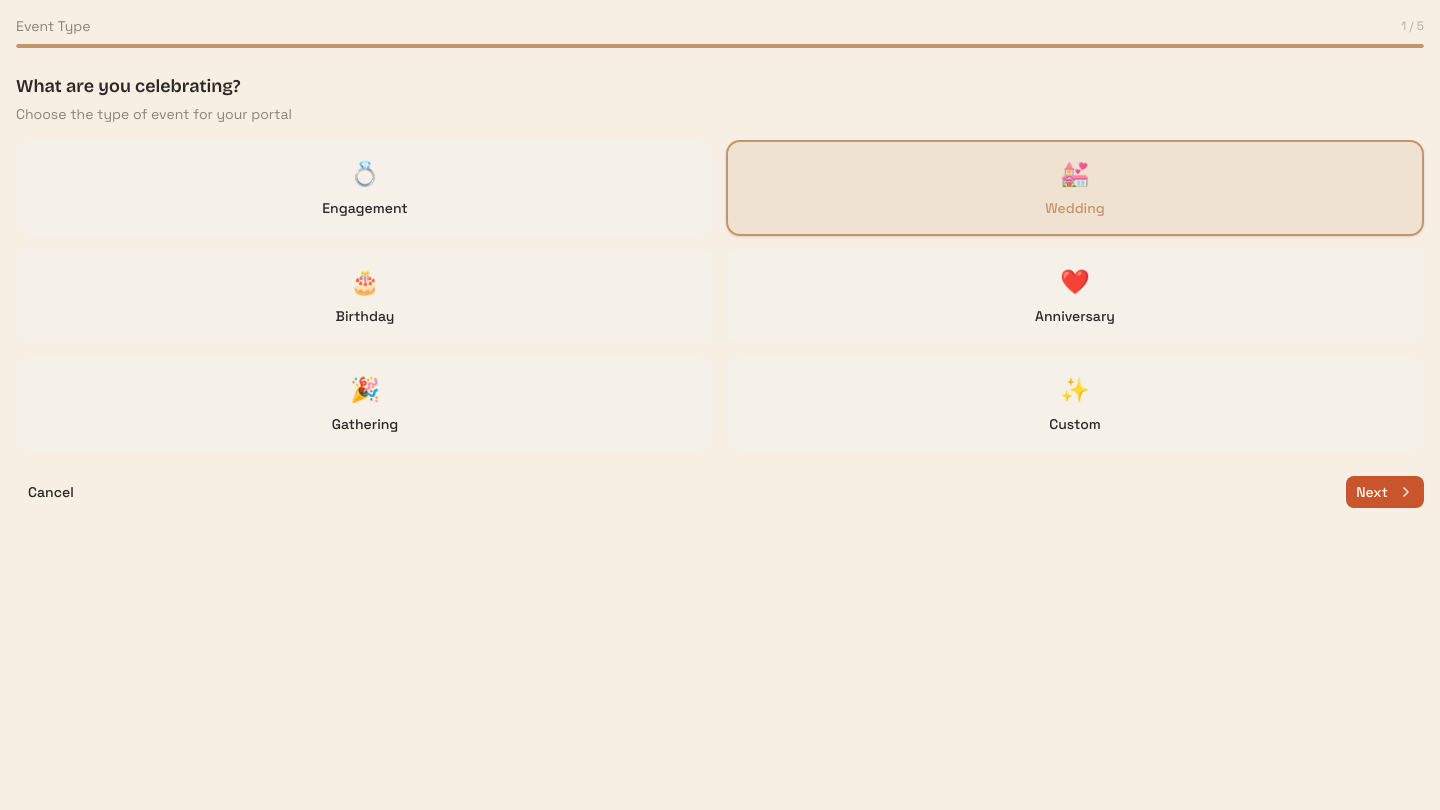
Scenario: PortalCreationWizard › navigates to step 5 (Review) from step 4
// Navigate through all steps
Click the button "Next" at (1385, 492), box x1=1346 y1=476 x2=1424 y2=508
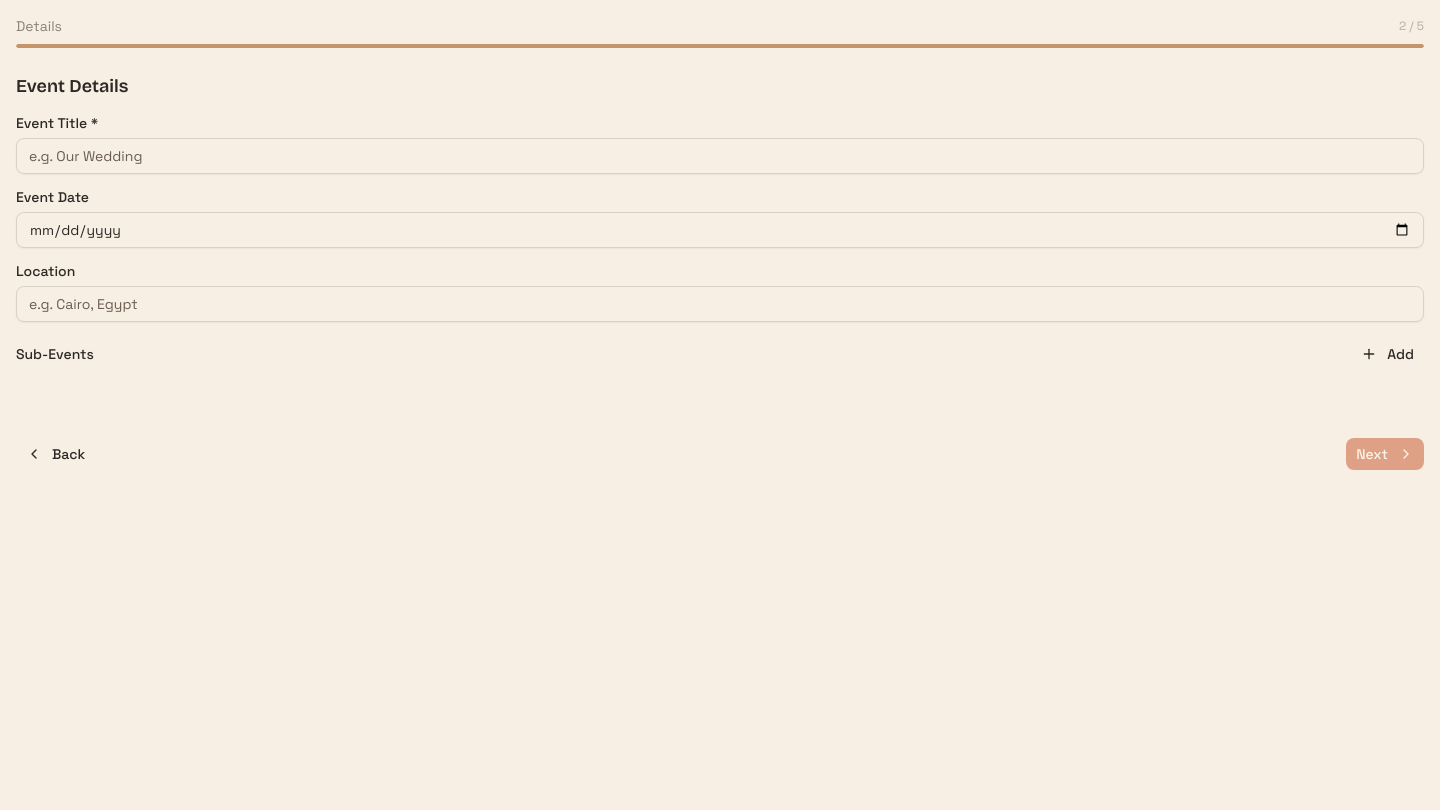
Type "My Wedding" into the field with test id "portal-title-input" at (720, 156), box x1=16 y1=138 x2=1424 y2=174
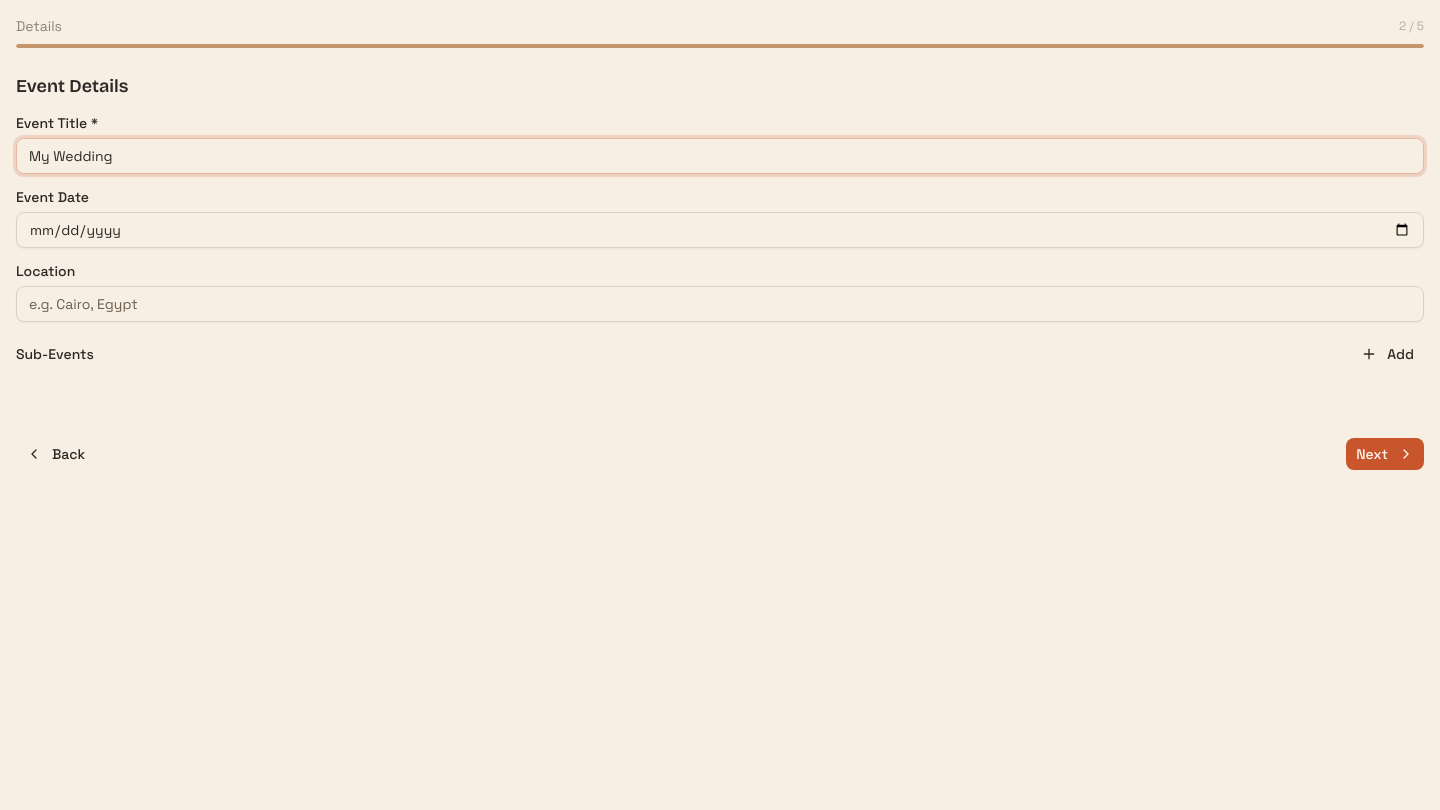
Click the button "Next" at (1385, 454), box x1=1346 y1=438 x2=1424 y2=470
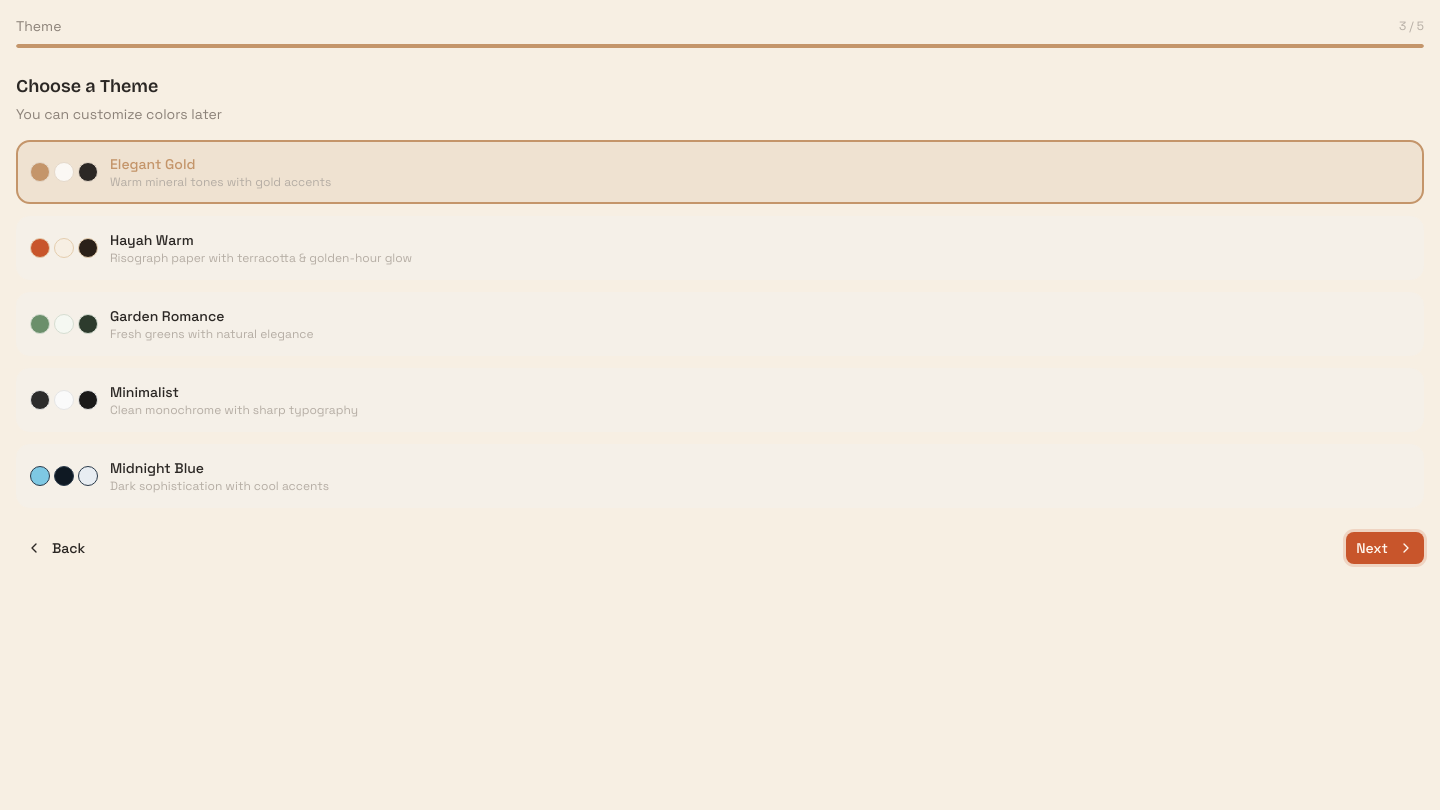
Click the button "Next" at (1385, 548), box x1=1346 y1=532 x2=1424 y2=564
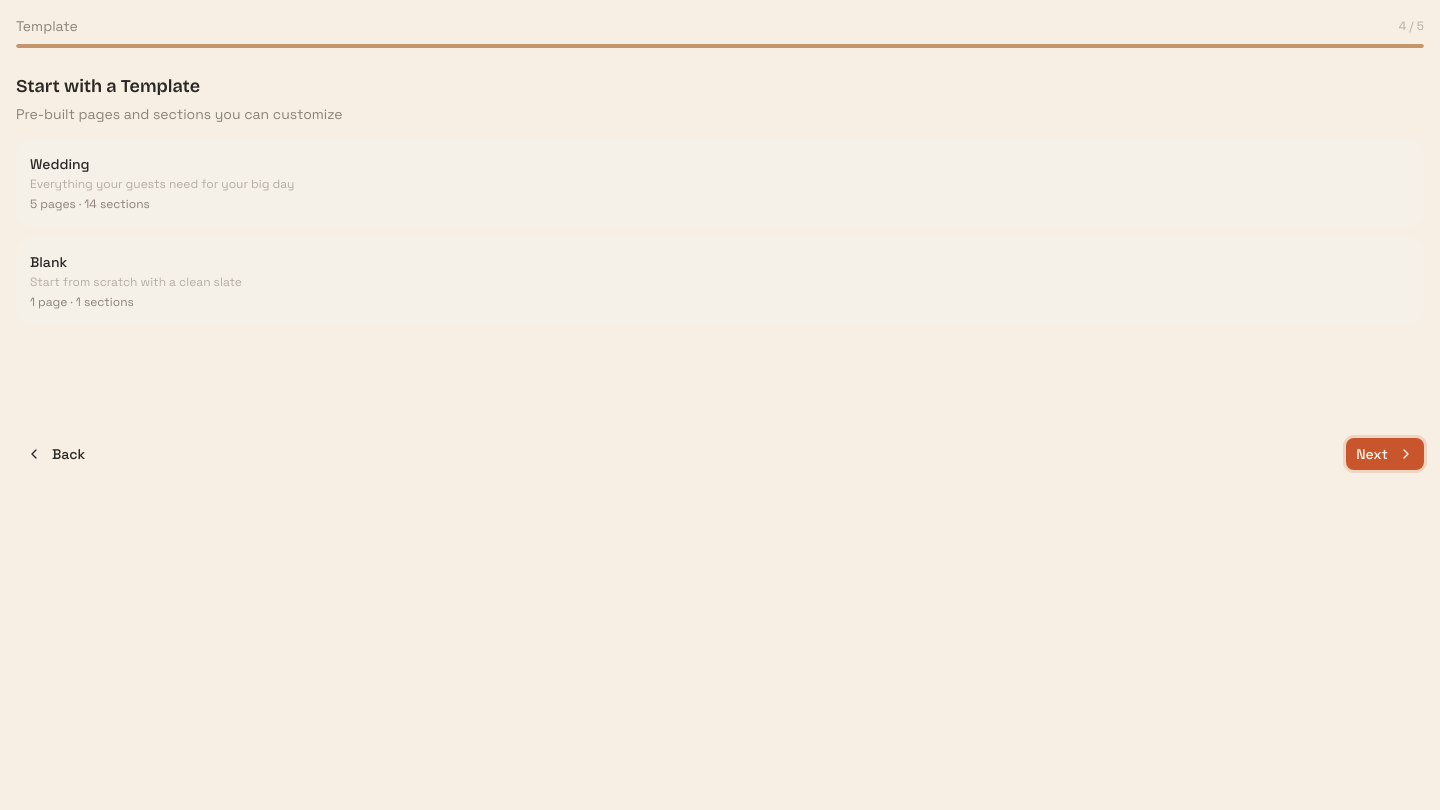
Click the button "Next" at (1385, 454), box x1=1346 y1=438 x2=1424 y2=470
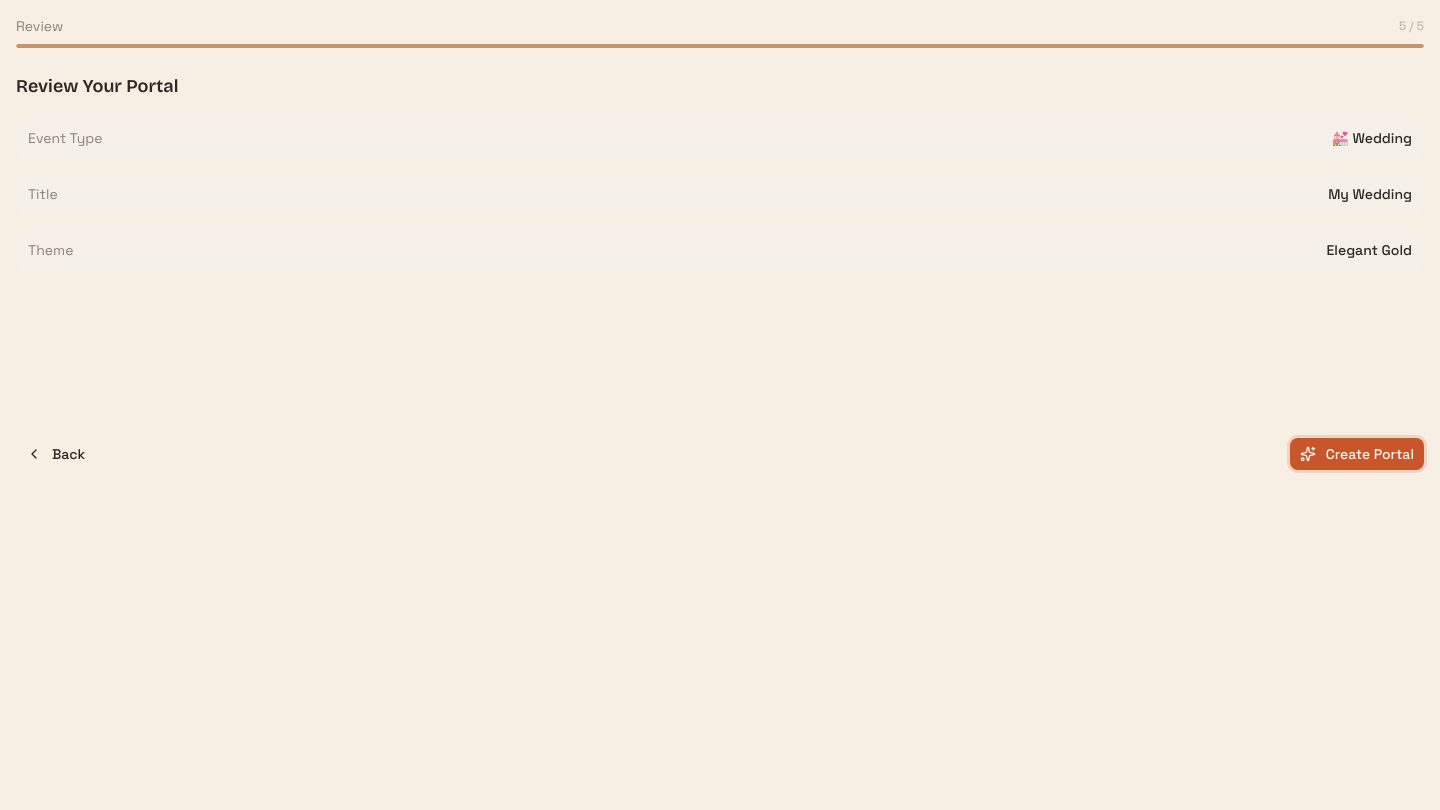
Check: the heading "Review Your Portal" is shown, box x1=16 y1=75 x2=178 y2=97
Check: the text "5 / 5" is shown, box x1=1399 y1=18 x2=1424 y2=34
Check: the text "My Wedding" is shown, box x1=1328 y1=184 x2=1412 y2=204
